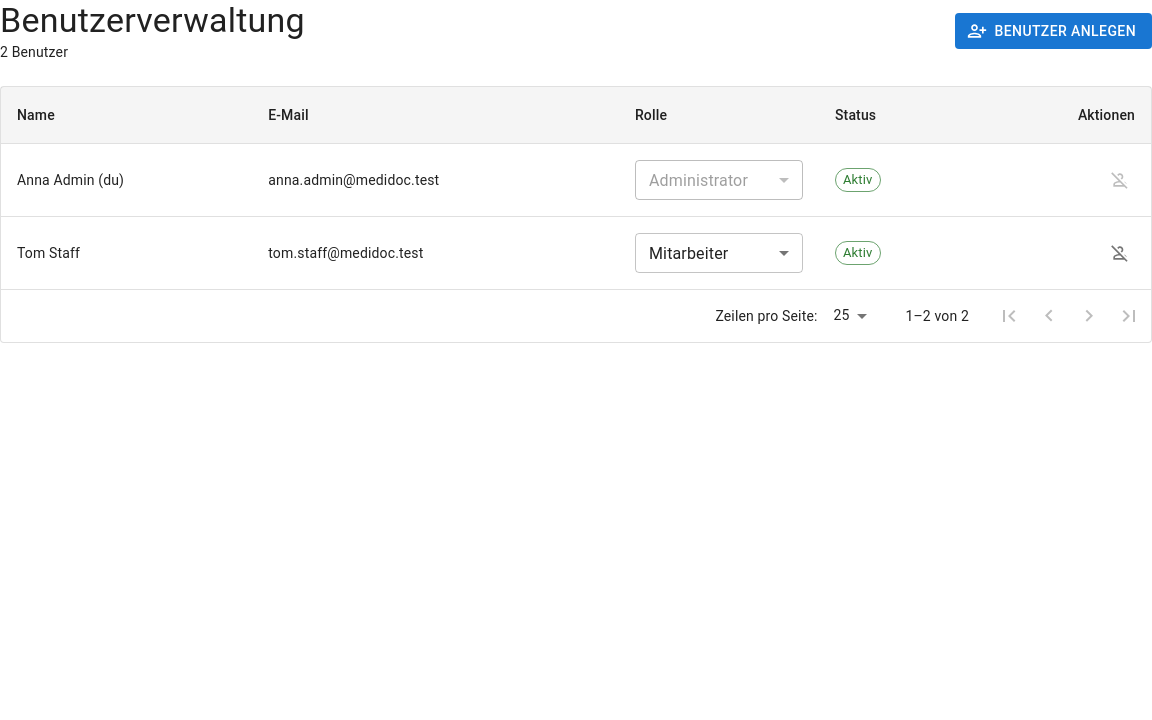
Scenario: UsersPage › deaktiviert einen Benutzer erst nach der Rückfrage
Click the button named "Tom Staff deaktivieren".
click(1120, 253)  # box x1=1105 y1=238 x2=1135 y2=268
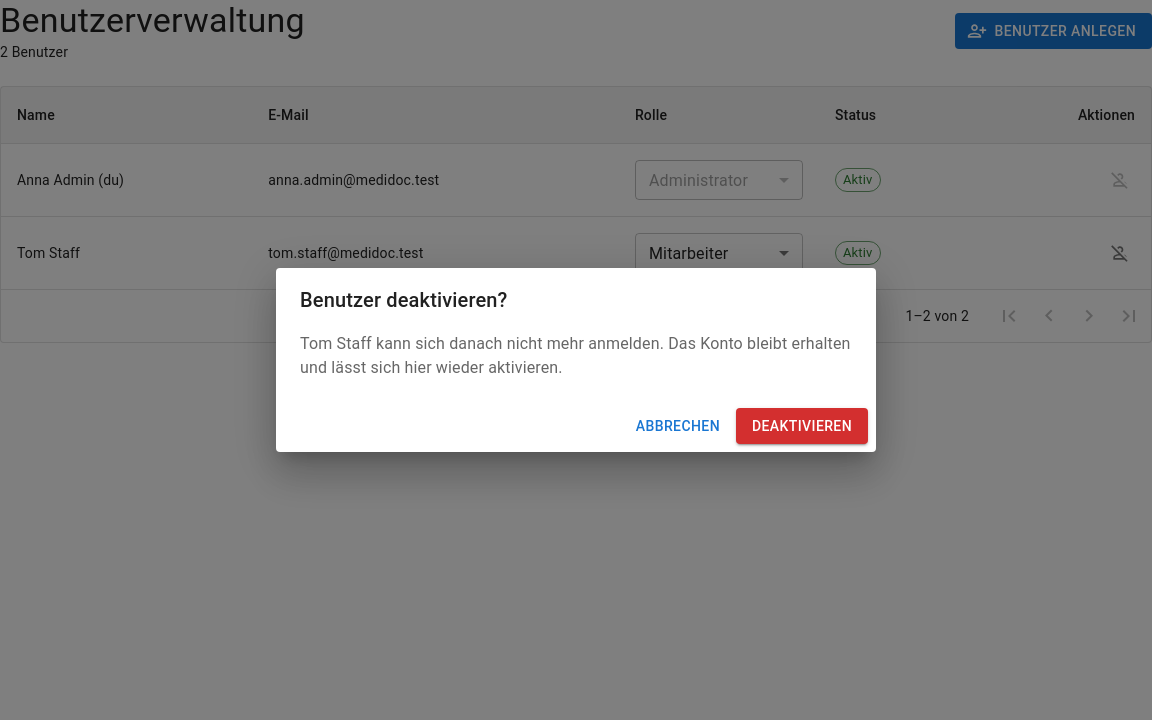
Expected: the dialog shows "Benutzer deaktivieren?", x1=300 y1=288 x2=508 y2=312
Click the button "Deaktivieren".
click(802, 426)  # box x1=736 y1=408 x2=868 y2=444
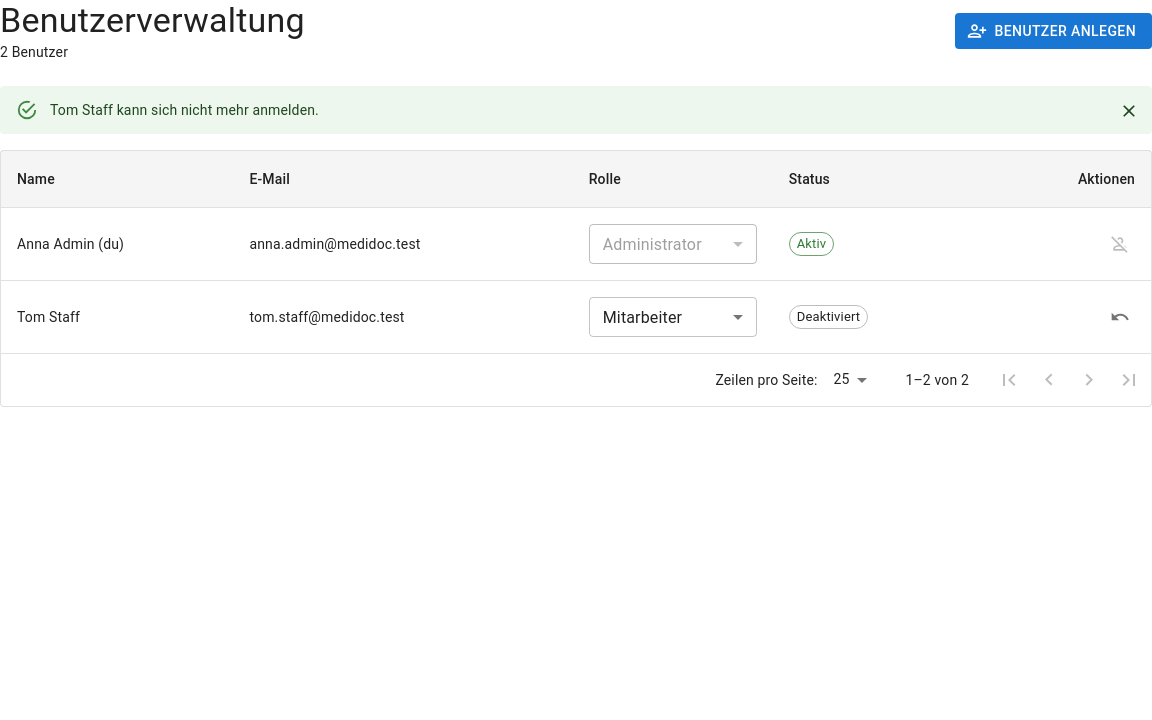
Expected: the text "Deaktiviert" is shown, x1=797 y1=309 x2=860 y2=324
